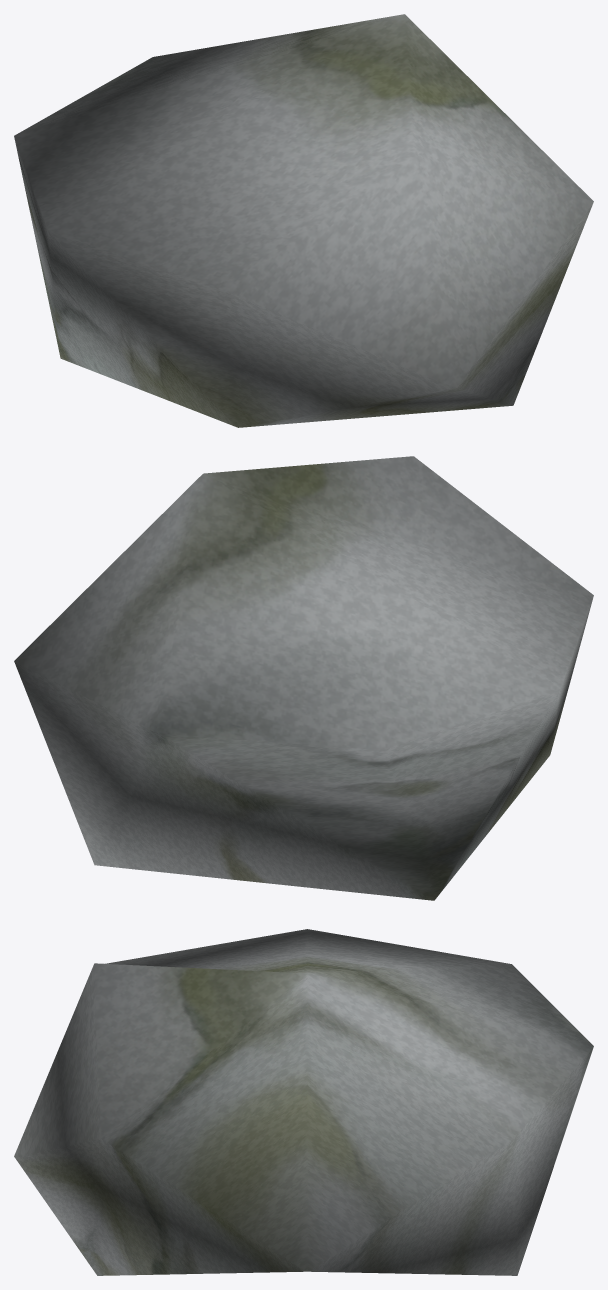
File: Rock_small07.fbx
The picture shows the model from 3 angles, top to bottom: view 1: azimuth 30°, elevation 25°; view 2: azimuth 150°, elevation 25°; view 3: azimuth 270°, elevation 25°; orthographic projection. The views are drawn at different scales.
Visible parts, largest first — view 1: Rock_small07; view 2: Rock_small07; view 3: Rock_small07.
Boxes of the visible parts, x1,y1,x2,y2 form: Rock_small07: (14,14,593,427); Rock_small07: (14,456,593,900); Rock_small07: (14,929,593,1275).
Bounding box in the file's own units: 0.4927 × 0.2876 × 0.4946.
1 material, 1 textured.
